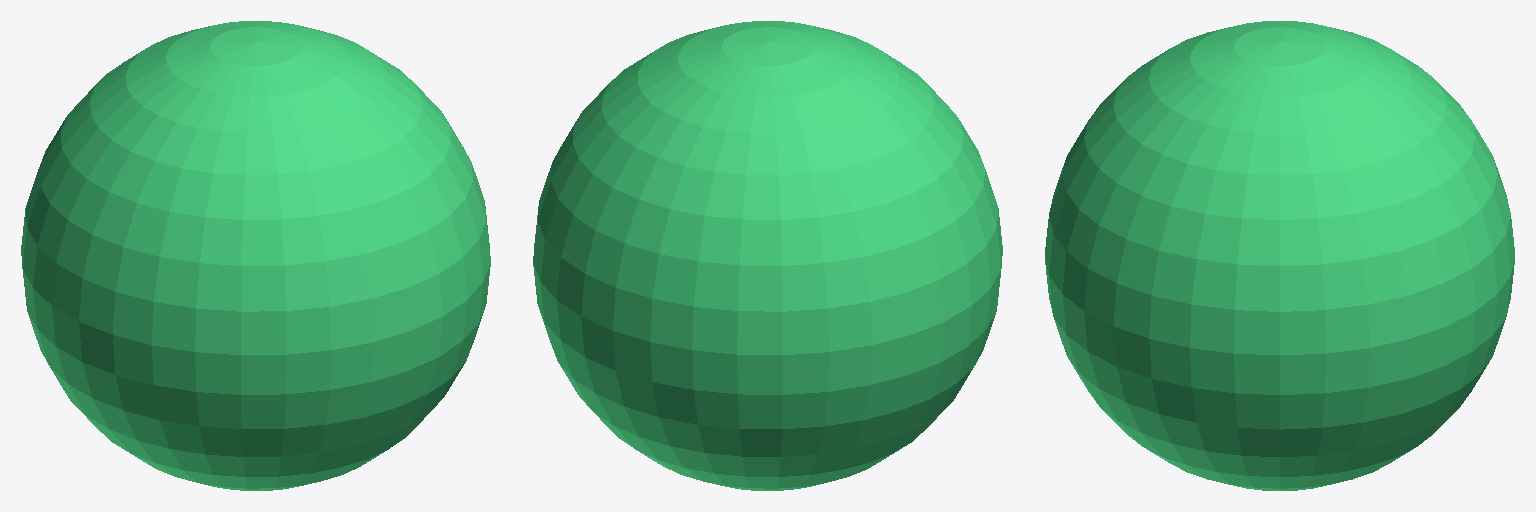
The model's file is planete.obj.
3 views of the same model, side by side, from view 1: azimuth 30°, elevation 25°; view 2: azimuth 150°, elevation 25°; view 3: azimuth 270°, elevation 25° (orthographic).
Parts seen in each view (by area): view 1: Sph_re001; view 2: Sph_re001; view 3: Sph_re001.
Boxes of the visible parts, x1,y1,x2,y2 form: Sph_re001: [21, 21, 490, 490]; Sph_re001: [533, 21, 1002, 490]; Sph_re001: [1045, 21, 1514, 490].
Bounding box in the file's own units: 39.63 × 39.63 × 39.63.